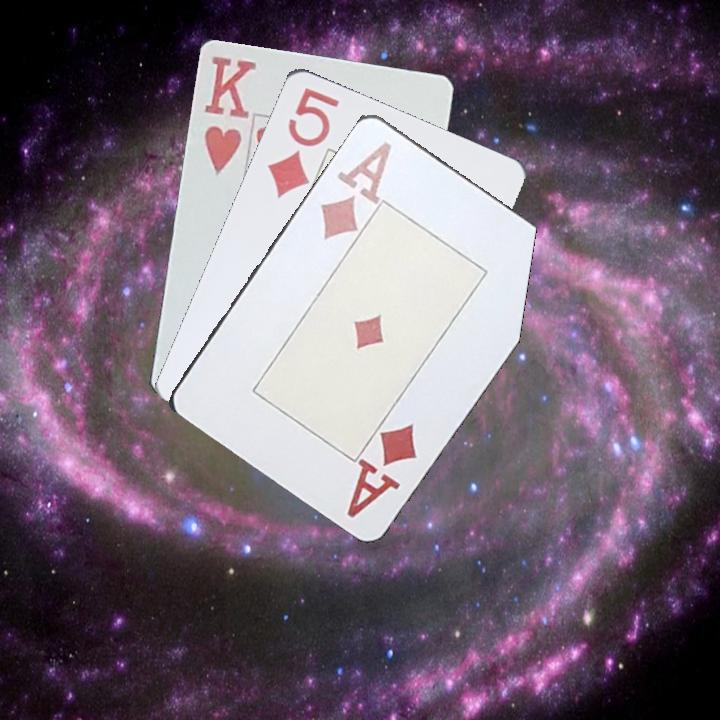5d: (263, 83, 342, 201)
Ad: (316, 137, 395, 242), (342, 418, 421, 521)
Kh: (200, 52, 259, 179)
